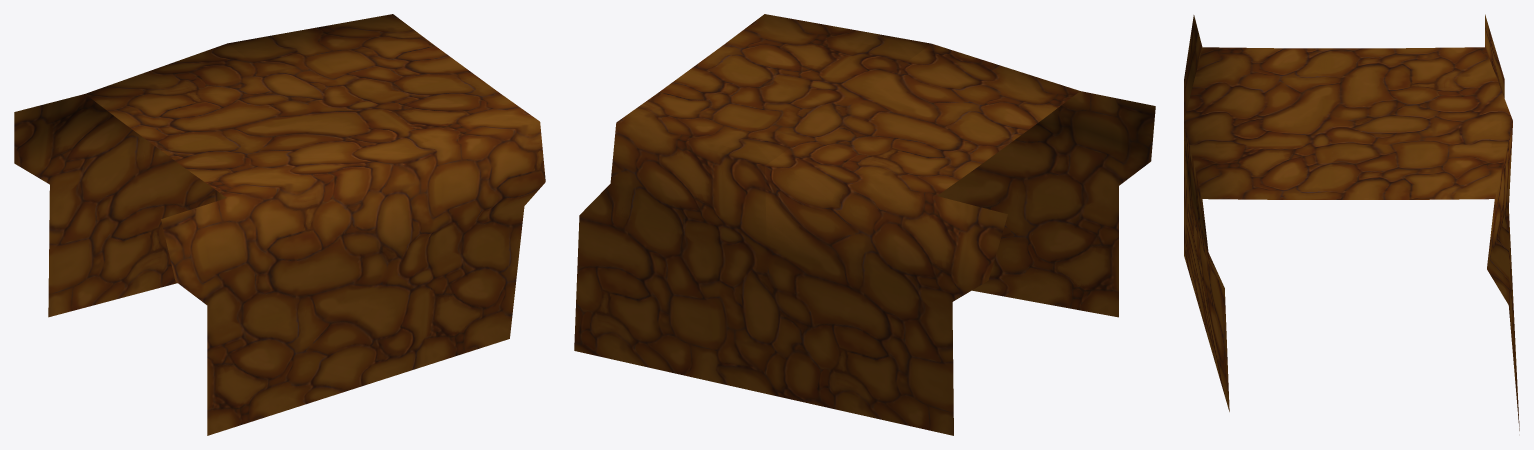
Rendered from ConnectorSmallWallEdited.fbx.
3 renders of one model, left to right at view 1: azimuth 30°, elevation 25°; view 2: azimuth 150°, elevation 25°; view 3: azimuth 270°, elevation 25°, orthographic.
Visible parts, largest first — view 1: polySurface10; view 2: polySurface10; view 3: polySurface10.
Boxes of the visible parts, x1=… form: polySurface10: x1=14, y1=14, x2=545, y2=435; polySurface10: x1=574, y1=14, x2=1155, y2=435; polySurface10: x1=1184, y1=14, x2=1519, y2=430.
Size of the model in its own units: 1.12 by 0.5851 by 0.7922.
